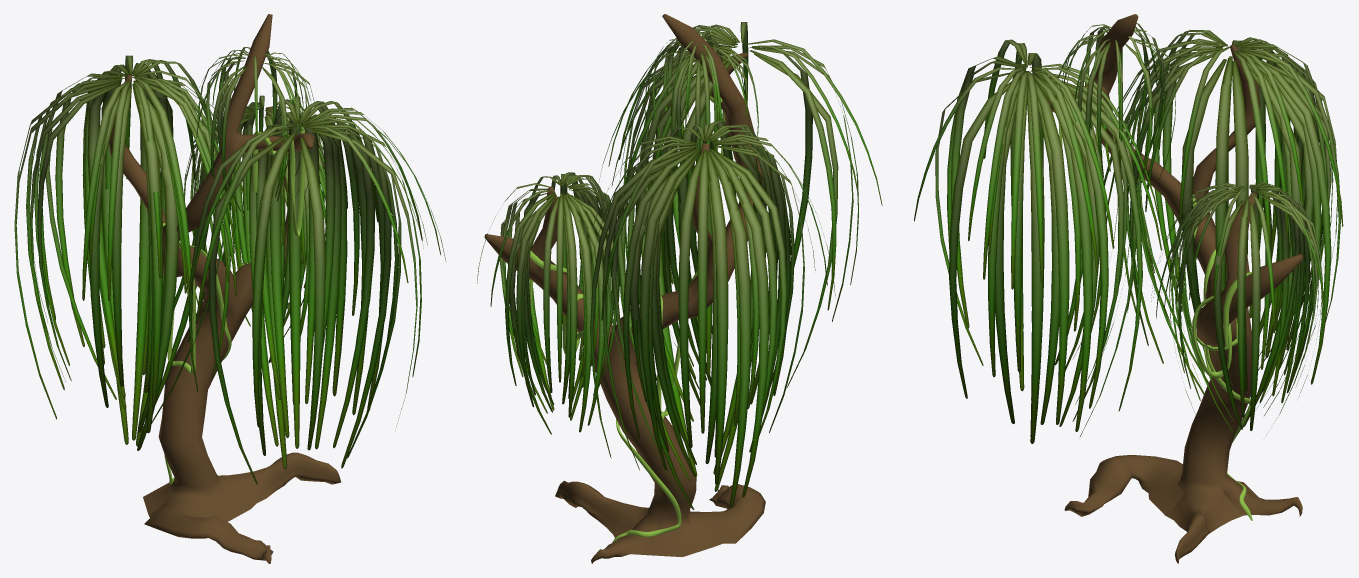
File: Tree.fbx
3 views of the same model, side by side, from view 1: azimuth 30°, elevation 25°; view 2: azimuth 150°, elevation 25°; view 3: azimuth 270°, elevation 25° (orthographic). The views are drawn at different scales.
Visible parts, largest first — view 1: TreeLeafs, BasicTree; view 2: TreeLeafs, BasicTree; view 3: TreeLeafs, BasicTree.
Boxes of the visible parts, x1=… form: TreeLeafs: x1=14, y1=47, x2=445, y2=484; BasicTree: x1=109, y1=14, x2=340, y2=563; TreeLeafs: x1=477, y1=22, x2=882, y2=509; BasicTree: x1=484, y1=14, x2=765, y2=563; TreeLeafs: x1=914, y1=23, x2=1343, y2=443; BasicTree: x1=1045, y1=14, x2=1303, y2=563.
Size of the model in its own units: 655 by 1049 by 795.
